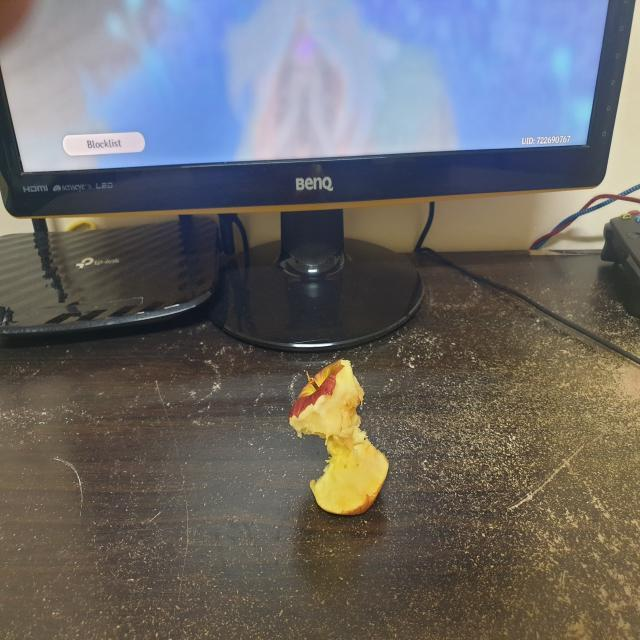apple: (287, 356, 392, 520)
